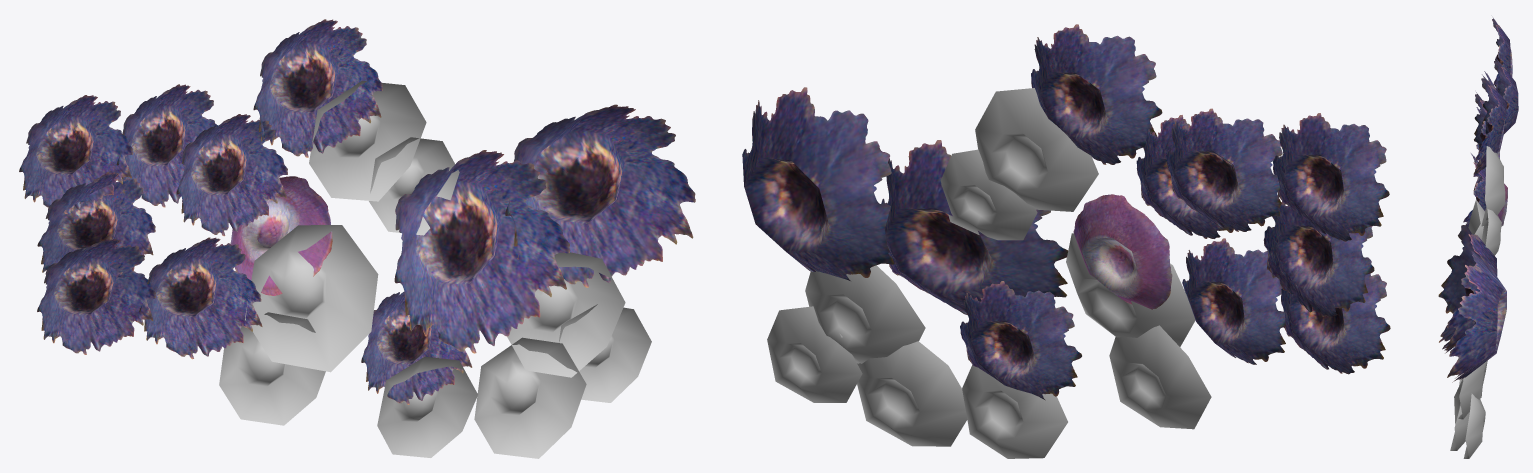
File: Left_Flower1.fbx
3 views of the same model, side by side, from view 1: azimuth 30°, elevation 25°; view 2: azimuth 150°, elevation 25°; view 3: azimuth 270°, elevation 25° (orthographic). The views are drawn at different scales.
Visible parts, largest first — view 1: Circle.952, Circle.953, Circle.967, Circle.954, Circle.962, Circle.961, Circle.965, Circle.942, Circle.957, Circle.939, Circle.938, Circle.964 (+7 smaller); view 2: Circle.953, Circle.952, Circle.954, Circle.957, Circle.964, Circle.951, Circle.939, Circle.962, Circle.942, Circle.966, Circle.955, Circle.938 (+7 smaller); view 3: Circle.953, Circle.952, Circle.954, Circle.939, Circle.964, Circle.944, Circle.938, Circle.957, Circle.942, Circle.948, Circle.965, Circle.962 (+3 smaller).
Boxes of the visible parts, box(x1,y1,x2,y2) form: Circle.952: box(394, 150, 570, 353); Circle.953: box(505, 104, 695, 287); Circle.967: box(245, 225, 378, 372); Circle.954: box(253, 19, 382, 157); Circle.962: box(139, 237, 262, 359); Circle.961: box(37, 238, 155, 354); Circle.965: box(176, 114, 287, 236); Circle.942: box(474, 337, 586, 458); Circle.957: box(19, 95, 132, 213); Circle.939: box(309, 80, 426, 201); Circle.938: box(507, 252, 625, 377); Circle.964: box(116, 84, 218, 207); Circle.953: box(742, 87, 894, 280); Circle.952: box(881, 140, 1067, 314); Circle.954: box(1031, 24, 1162, 164); Circle.957: box(1273, 113, 1389, 241); Circle.964: box(1166, 108, 1282, 231); Circle.951: box(960, 281, 1081, 400); Circle.939: box(975, 88, 1098, 211); Circle.962: box(1182, 238, 1286, 364); Circle.942: box(857, 341, 967, 446); Circle.966: box(1073, 194, 1172, 309); Circle.955: box(1263, 202, 1374, 317); Circle.938: box(805, 265, 925, 363); Circle.953: box(1447, 251, 1506, 382); Circle.952: box(1438, 224, 1497, 353); Circle.954: box(1476, 74, 1507, 170); Circle.939: box(1481, 146, 1505, 226); Circle.964: box(1494, 57, 1518, 134); Circle.944: box(1463, 393, 1485, 458); Circle.938: box(1457, 361, 1487, 419); Circle.957: box(1492, 18, 1512, 91); Circle.942: box(1450, 373, 1469, 450); Circle.948: box(1482, 209, 1501, 255); Circle.965: box(1474, 92, 1487, 175); Circle.962: box(1458, 153, 1486, 235).
Bounding box in the file's own units: 89.4 × 61.39 × 15.84.
